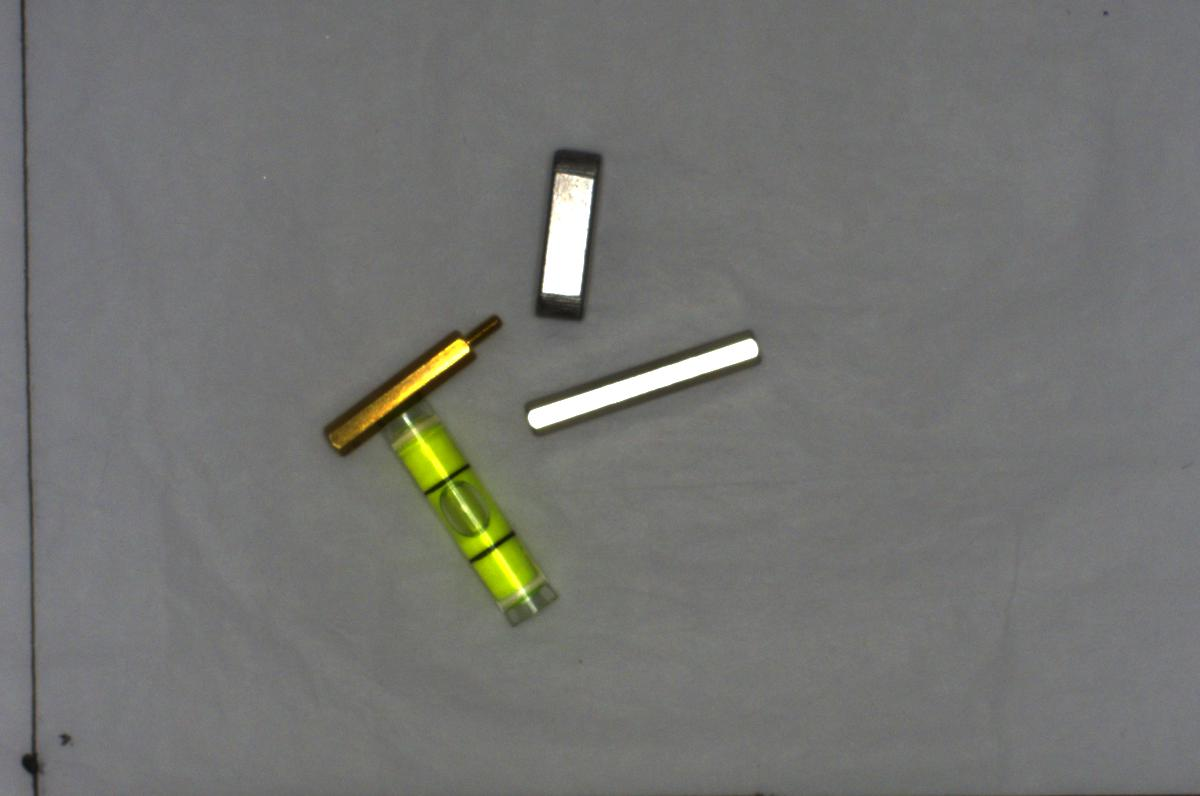Double hexagonal column: (522, 327, 766, 436)
Hexagon pillar: (318, 313, 508, 454)
Horizontal bubble: (385, 401, 554, 629)
Keybar: (532, 147, 594, 320)
